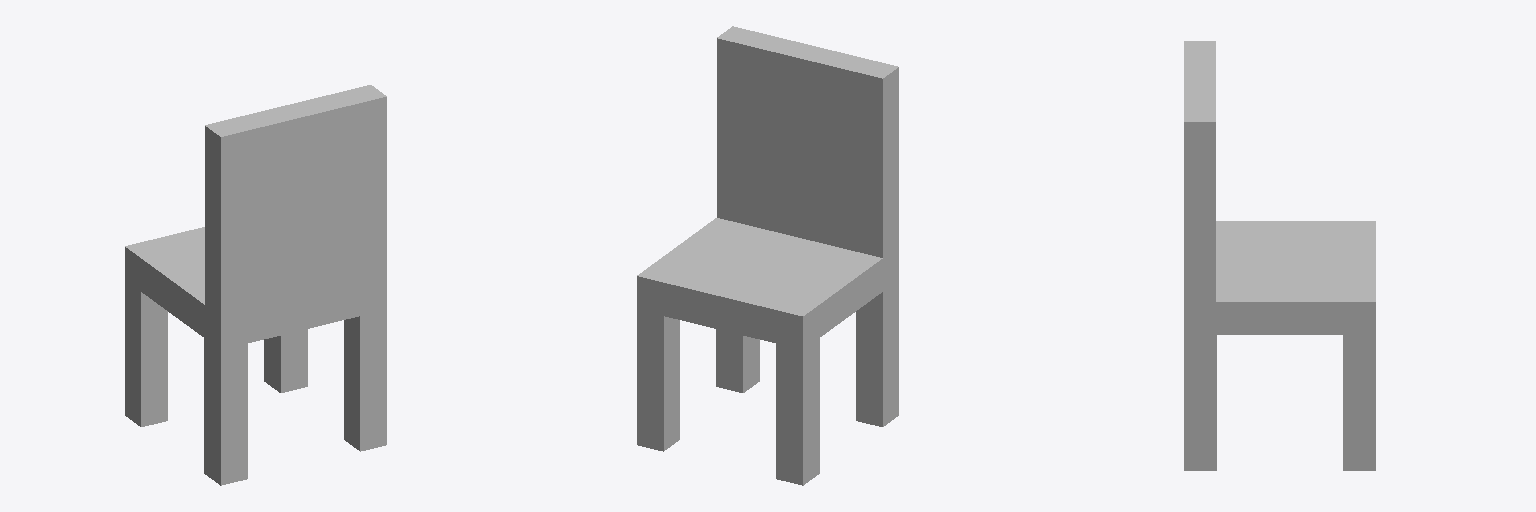
Rendered from chair.obj.
The picture shows the model from 3 angles: view 1: azimuth 30°, elevation 25°; view 2: azimuth 150°, elevation 25°; view 3: azimuth 270°, elevation 25°; orthographic projection.
Visible parts, largest first — view 1: Cube; view 2: Cube; view 3: Cube.
Part boxes in pixels (left/top/right/bottom): Cube: left=125, top=85, right=386, bottom=485; Cube: left=637, top=26, right=898, bottom=485; Cube: left=1184, top=41, right=1375, bottom=470.
Bounding box in the file's own units: 2 × 4 × 2.